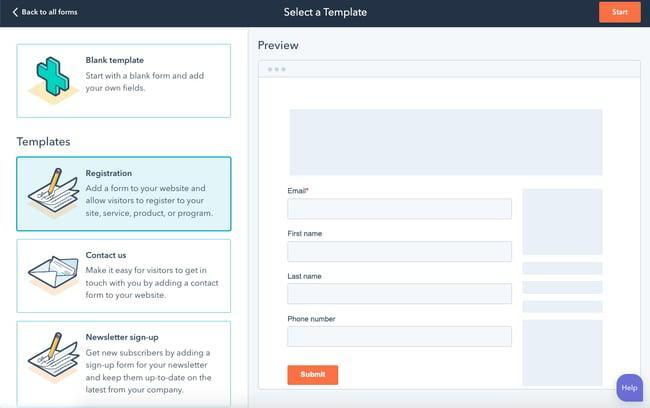button: (18, 322, 232, 407), (16, 241, 231, 316), (18, 159, 230, 232), (17, 45, 230, 117), (289, 367, 338, 385), (600, 3, 642, 24)
input: (289, 326, 513, 350), (289, 241, 512, 264), (288, 285, 512, 305), (289, 201, 513, 220)
label: (17, 134, 77, 151)
